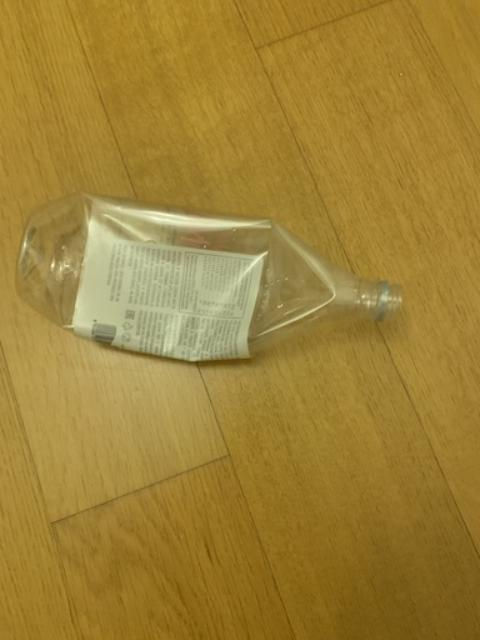plastic: (16, 191, 399, 359)
